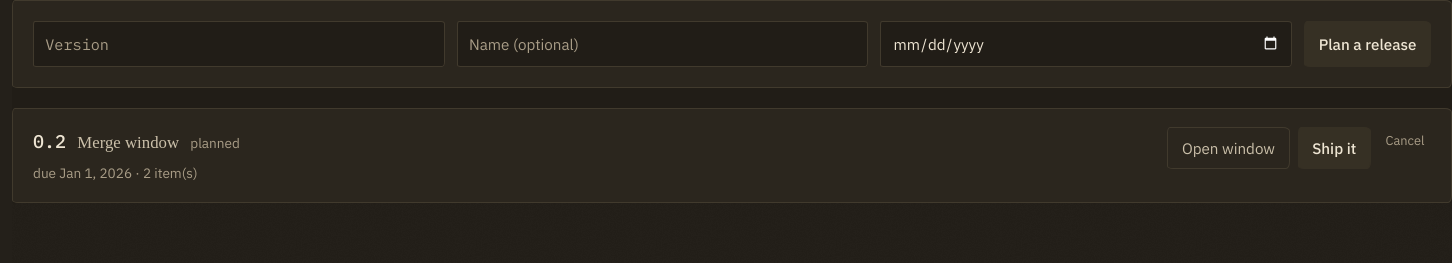
Test: ReleasesPanel › surfaces a rejected mutation
Click the button "Open window".
click(1228, 148)  # box [1167,126,1290,169]
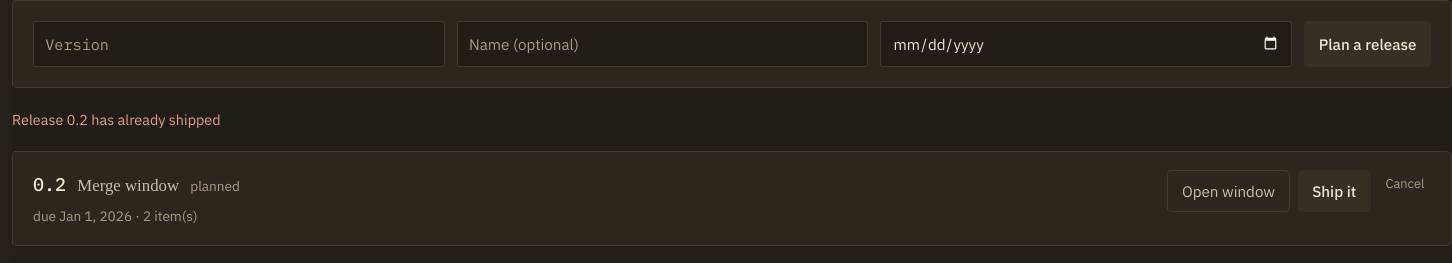
Check: the message "Release 0.2 has already shipped" is shown, box [12,110,221,129]
